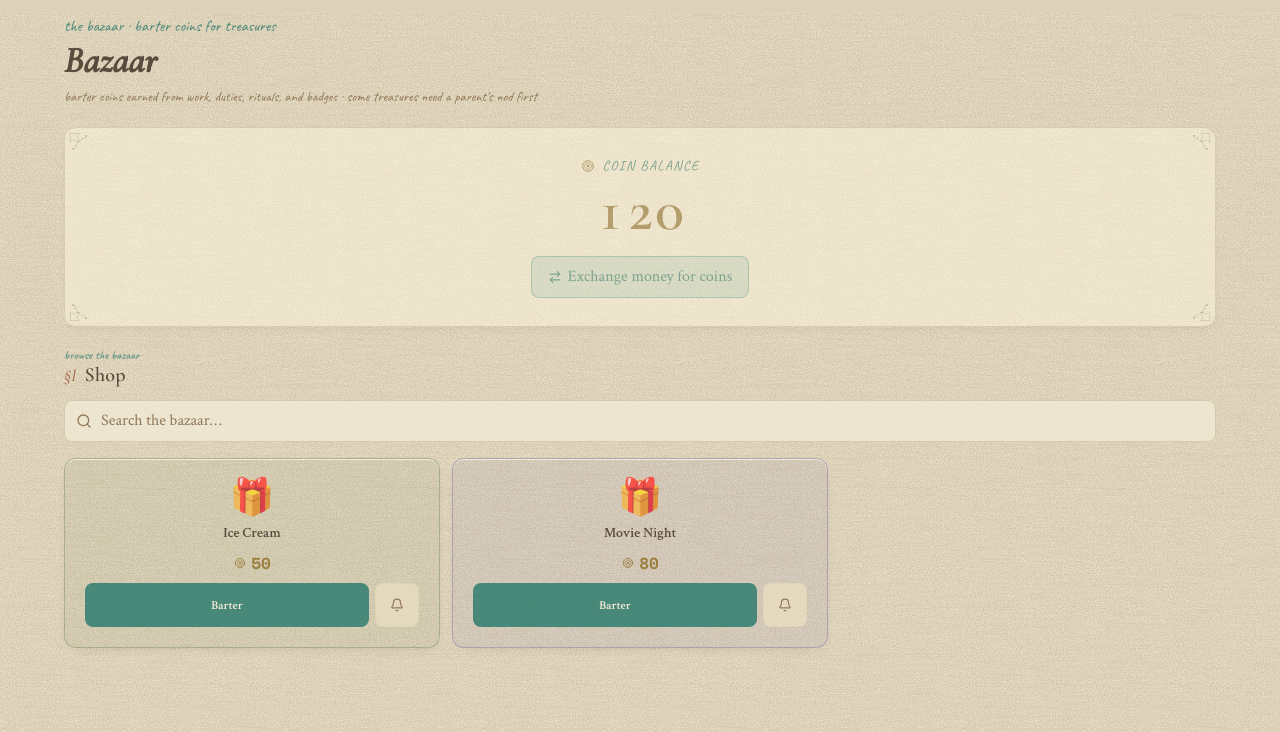
Rewards › filters the bazaar by name when the child types in the search
Expected: the text "Ice Cream" is shown, [223,524,281,542]
In the search field named "filter rewards": (640, 421) [64,400,1216,442], type "movie"
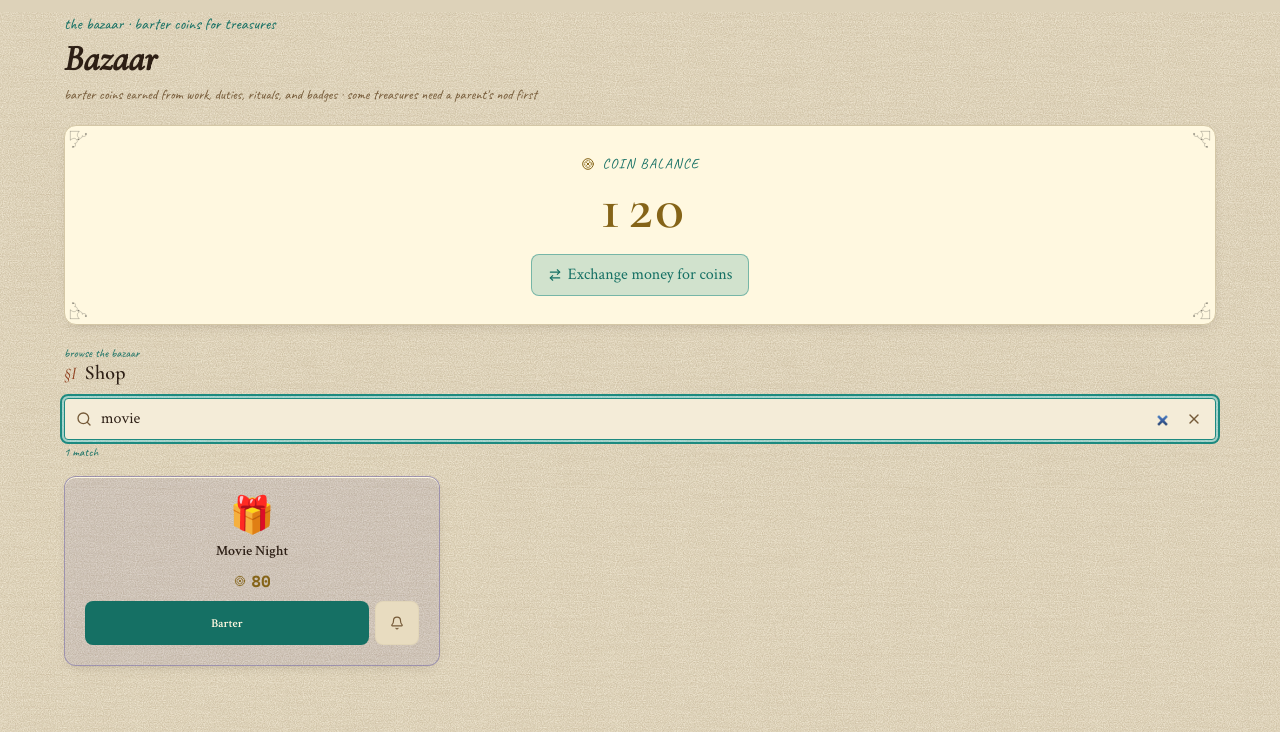
Expected: the text "Movie Night" is shown, [216,542,288,560]
Now the text "Ice Cream" is gone
